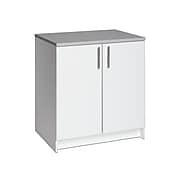cabinet_door: (56, 46, 102, 136), (102, 42, 145, 131)
handle: (106, 46, 111, 72), (96, 46, 101, 71)
